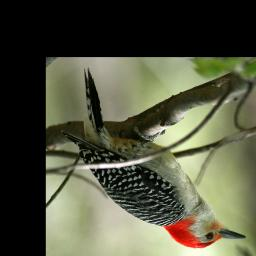Woodpecker: (64, 68, 246, 250)
